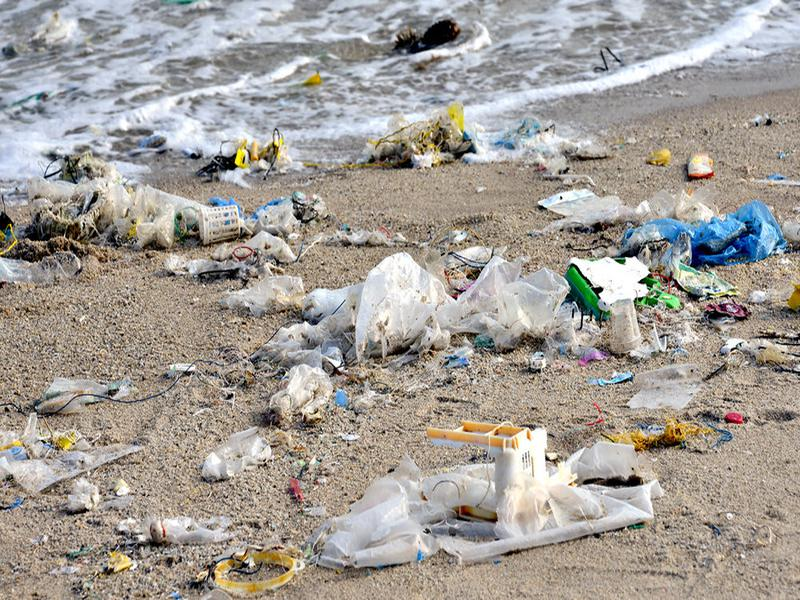plastic: (447, 478, 665, 560), (315, 444, 446, 577), (454, 249, 571, 354), (349, 247, 454, 359), (531, 186, 718, 240), (688, 194, 792, 278), (267, 304, 367, 368), (192, 427, 287, 488), (215, 270, 310, 316)
